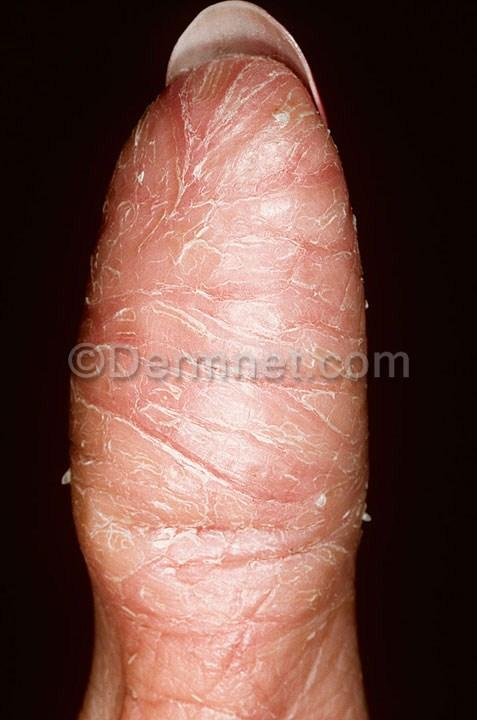Eczema: (269, 379, 373, 543), (70, 374, 162, 504), (89, 528, 225, 608), (181, 378, 262, 511), (263, 558, 344, 679), (280, 226, 355, 356), (179, 245, 275, 344), (181, 622, 262, 718), (98, 616, 175, 715), (127, 111, 198, 218), (205, 138, 274, 228), (103, 248, 169, 331), (271, 119, 338, 199), (270, 678, 362, 720), (204, 74, 269, 123)
